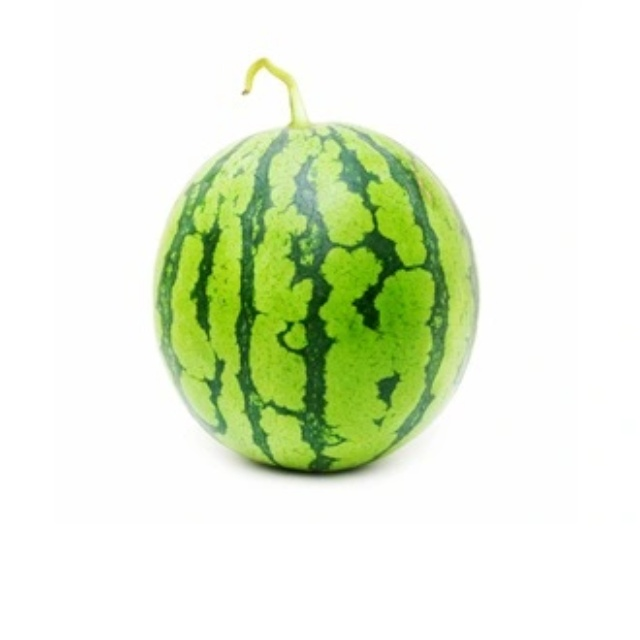dua_hau: (158, 123, 478, 469)
